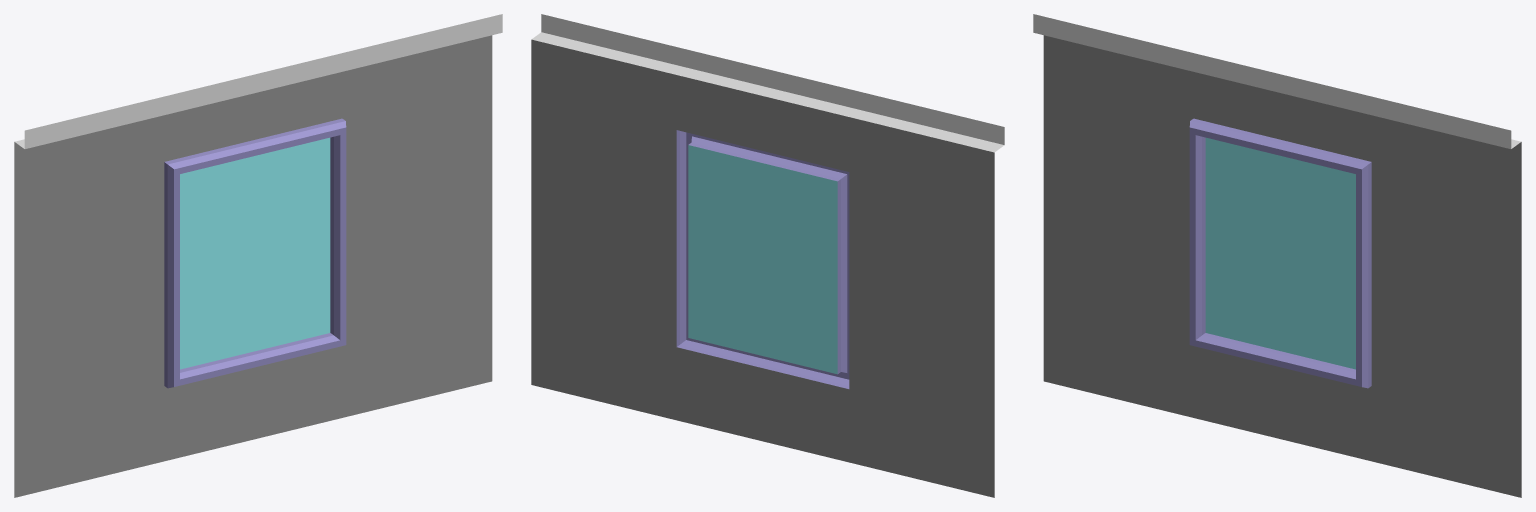
File: WallWindow.FBX
The picture shows the model from 3 angles, left to right: view 1: azimuth 30°, elevation 25°; view 2: azimuth 150°, elevation 25°; view 3: azimuth 330°, elevation 25°; orthographic projection. The views are drawn at different scales.
Visible parts, largest first — view 1: WallNormal, Edge; view 2: WallNormal, Edge; view 3: WallNormal, Edge.
Boxes of the visible parts, box(x1,y1,x2,y2) form: WallNormal: box(14, 35, 492, 497); Edge: box(15, 14, 502, 148); WallNormal: box(531, 39, 994, 497); Edge: box(531, 14, 1004, 152); WallNormal: box(1043, 35, 1521, 497); Edge: box(1033, 14, 1520, 148).
Size of the model in its own units: 400 by 300 by 15.
